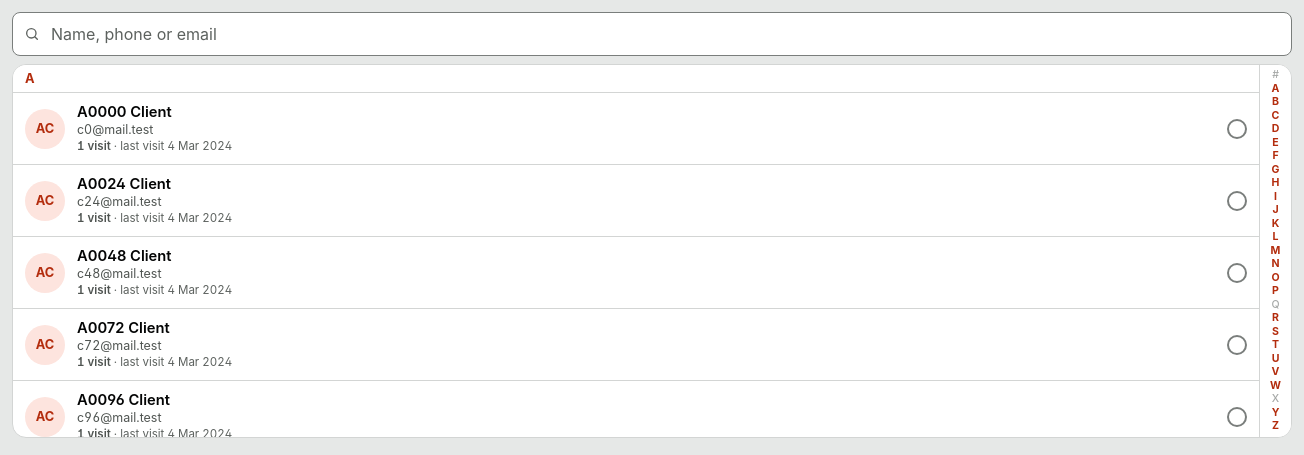
ClientPicker with a large roster › tapping a rail letter scrolls to and renders that section
Expected: the text "M0012 Client" is not shown
Click the button named "Jump to M" at {"x": 1276, "y": 251}, box [1260,244,1291,258]
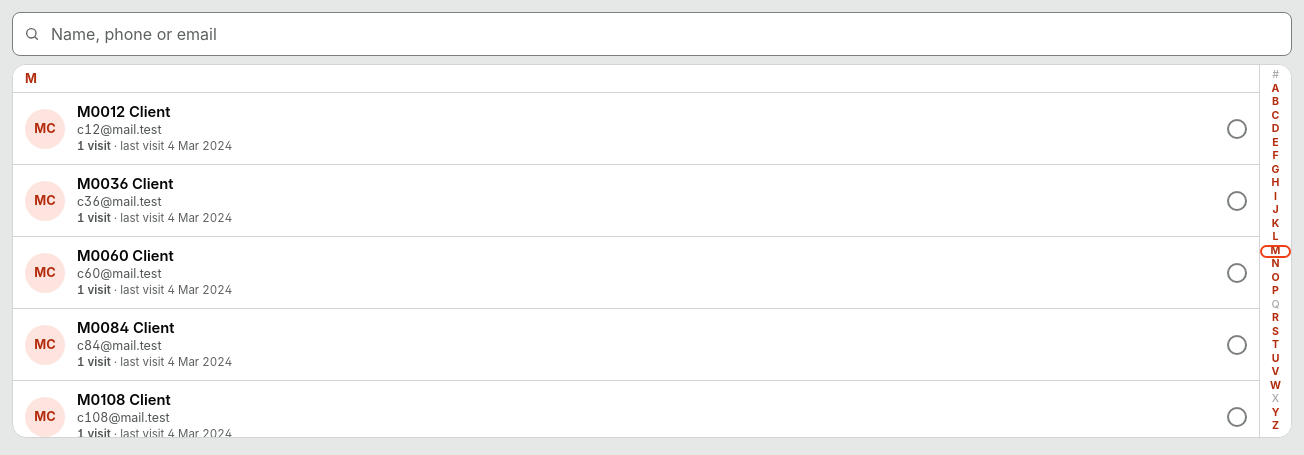
Result: the text "M0012 Client" is shown at [77,103,170,121]
